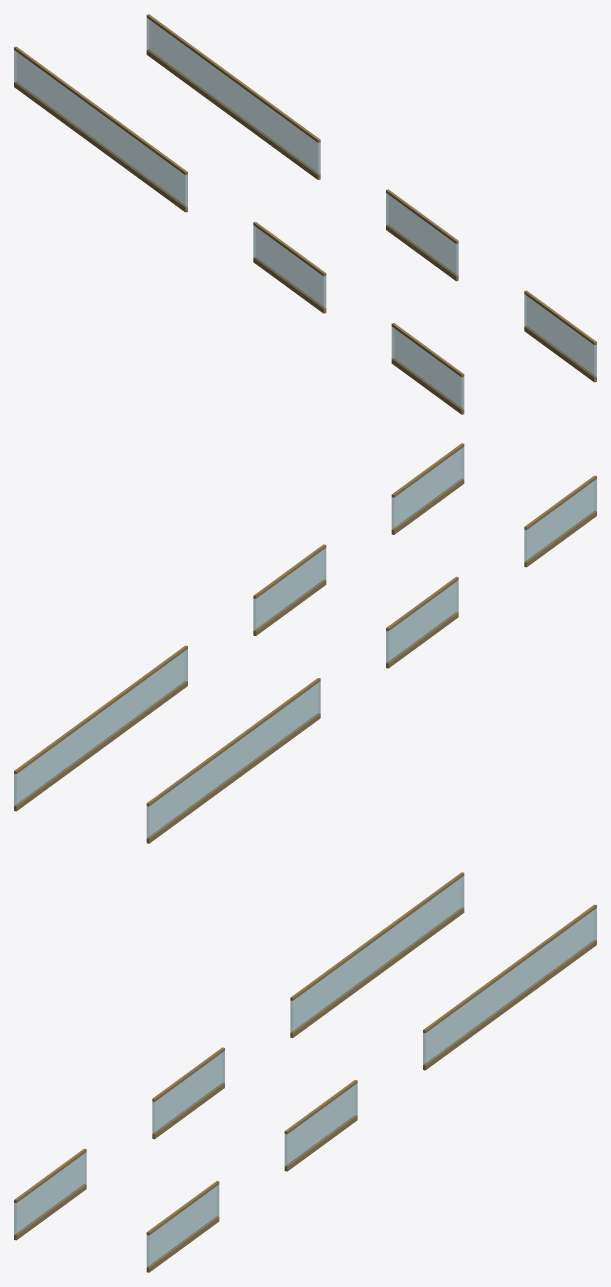
Rendered from D04_PORT_FORWARD_HOMES_SECOND_GUARDS_r001.glb.
3 views of the same model, one above another, from view 1: azimuth 30°, elevation 25°; view 2: azimuth 150°, elevation 25°; view 3: azimuth 330°, elevation 25° (orthographic).
Parts seen in each view (by area): view 1: D04H2_D04PF_UpperGuard_15_0_0, D04H2_D04PF_UpperGuard_17_0_0, D04H2_D04PF_UpperGuard_17_0_1, D04H2_D04PF_UpperGuard_15_0_1, D04H2_D04PF_UpperGuard_17_0_2, D04H2_D04PF_UpperGuard_15_0_2, D04H2_D04PF_UpperGuard_15_Base_0_0, D04H2_D04PF_UpperGuard_17_Base_0_0, D04H2_D04PF_UpperGuard_15_Cap_0_0, D04H2_D04PF_UpperGuard_17_Cap_0_0, D04H2_D04PF_UpperGuard_17_Base_0_1, D04H2_D04PF_UpperGuard_17_Base_0_2 (+2 smaller); view 2: D04H2_D04PF_UpperGuard_17_0_0, D04H2_D04PF_UpperGuard_15_0_0, D04H2_D04PF_UpperGuard_15_0_1, D04H2_D04PF_UpperGuard_15_0_2, D04H2_D04PF_UpperGuard_17_0_1, D04H2_D04PF_UpperGuard_17_0_2, D04H2_D04PF_UpperGuard_17_Base_0_0, D04H2_D04PF_UpperGuard_15_Base_0_0, D04H2_D04PF_UpperGuard_17_Cap_0_0, D04H2_D04PF_UpperGuard_15_Cap_0_0, D04H2_D04PF_UpperGuard_15_Base_0_1, D04H2_D04PF_UpperGuard_15_Base_0_2 (+2 smaller); view 3: D04H2_D04PF_UpperGuard_17_0_0, D04H2_D04PF_UpperGuard_15_0_0, D04H2_D04PF_UpperGuard_15_0_1, D04H2_D04PF_UpperGuard_15_0_2, D04H2_D04PF_UpperGuard_17_0_1, D04H2_D04PF_UpperGuard_17_0_2, D04H2_D04PF_UpperGuard_17_Base_0_0, D04H2_D04PF_UpperGuard_15_Base_0_0, D04H2_D04PF_UpperGuard_17_Cap_0_0, D04H2_D04PF_UpperGuard_15_Cap_0_0, D04H2_D04PF_UpperGuard_15_Base_0_1, D04H2_D04PF_UpperGuard_15_Base_0_2 (+2 smaller).
Boxes of the visible parts, x1,y1,x2,y2 form: D04H2_D04PF_UpperGuard_15_0_0: (146,18,320,175); D04H2_D04PF_UpperGuard_17_0_0: (14,50,187,207); D04H2_D04PF_UpperGuard_17_0_1: (253,225,326,308); D04H2_D04PF_UpperGuard_15_0_1: (386,192,458,276); D04H2_D04PF_UpperGuard_17_0_2: (391,326,464,409); D04H2_D04PF_UpperGuard_15_0_2: (524,294,596,377); D04H2_D04PF_UpperGuard_15_Base_0_0: (146,49,320,179); D04H2_D04PF_UpperGuard_17_Base_0_0: (14,82,187,212); D04H2_D04PF_UpperGuard_15_Cap_0_0: (146,14,320,142); D04H2_D04PF_UpperGuard_17_Cap_0_0: (14,46,187,175); D04H2_D04PF_UpperGuard_17_Base_0_1: (253,257,326,313); D04H2_D04PF_UpperGuard_17_Base_0_2: (391,358,464,414); D04H2_D04PF_UpperGuard_17_0_0: (146,681,320,838); D04H2_D04PF_UpperGuard_15_0_0: (14,649,187,806); D04H2_D04PF_UpperGuard_15_0_1: (253,548,326,631); D04H2_D04PF_UpperGuard_15_0_2: (391,447,464,529); D04H2_D04PF_UpperGuard_17_0_1: (386,580,458,663); D04H2_D04PF_UpperGuard_17_0_2: (524,479,596,562); D04H2_D04PF_UpperGuard_17_Base_0_0: (146,713,320,843); D04H2_D04PF_UpperGuard_15_Base_0_0: (14,681,187,811); D04H2_D04PF_UpperGuard_17_Cap_0_0: (146,678,320,806); D04H2_D04PF_UpperGuard_15_Cap_0_0: (14,645,187,773); D04H2_D04PF_UpperGuard_15_Base_0_1: (253,579,326,635); D04H2_D04PF_UpperGuard_15_Base_0_2: (391,478,464,534); D04H2_D04PF_UpperGuard_17_0_0: (290,876,464,1033); D04H2_D04PF_UpperGuard_15_0_0: (423,908,596,1065); D04H2_D04PF_UpperGuard_15_0_1: (284,1083,357,1166); D04H2_D04PF_UpperGuard_15_0_2: (146,1185,219,1268); D04H2_D04PF_UpperGuard_17_0_1: (152,1050,224,1134); D04H2_D04PF_UpperGuard_17_0_2: (14,1152,86,1235); D04H2_D04PF_UpperGuard_17_Base_0_0: (290,907,464,1037); D04H2_D04PF_UpperGuard_15_Base_0_0: (423,940,596,1070); D04H2_D04PF_UpperGuard_17_Cap_0_0: (290,872,464,1000); D04H2_D04PF_UpperGuard_15_Cap_0_0: (423,904,596,1033); D04H2_D04PF_UpperGuard_15_Base_0_1: (284,1115,357,1171); D04H2_D04PF_UpperGuard_15_Base_0_2: (146,1216,219,1272).
Size of the model in its own units: 4.18 by 1.18 by 23.98.
2 materials, 1 textured.
